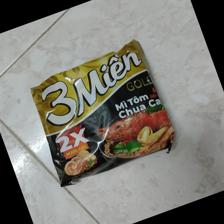3mien: (29, 37, 176, 189)
